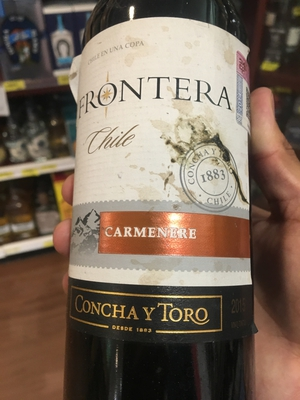frontera carmenere: (59, 26, 283, 394)
